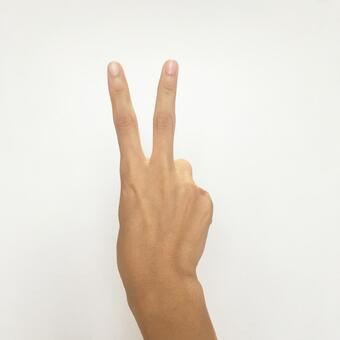tyoki: (106, 56, 214, 269)
